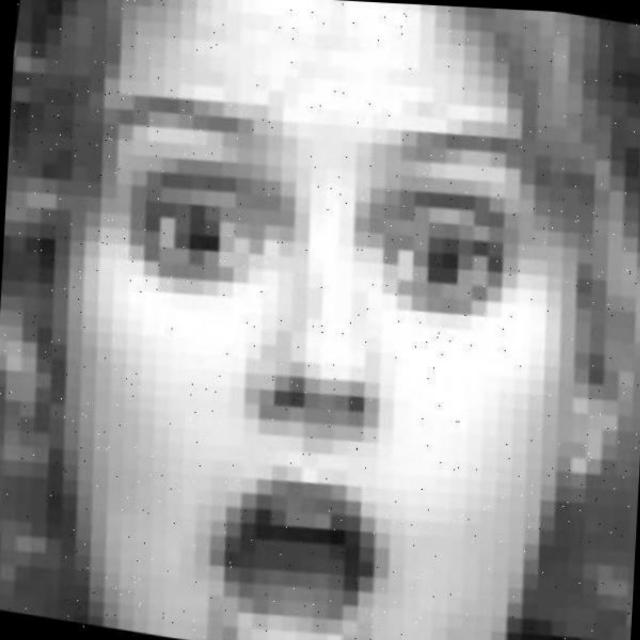Surprised: (43, 61, 599, 640)
